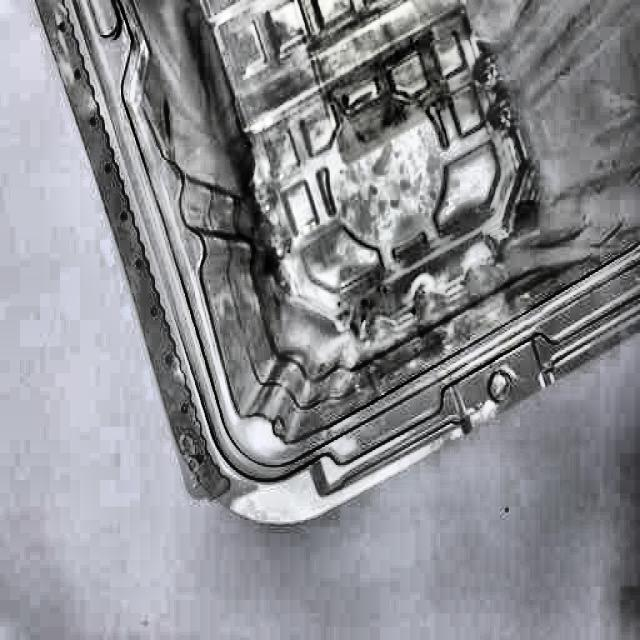plastic: (37, 0, 640, 532)
